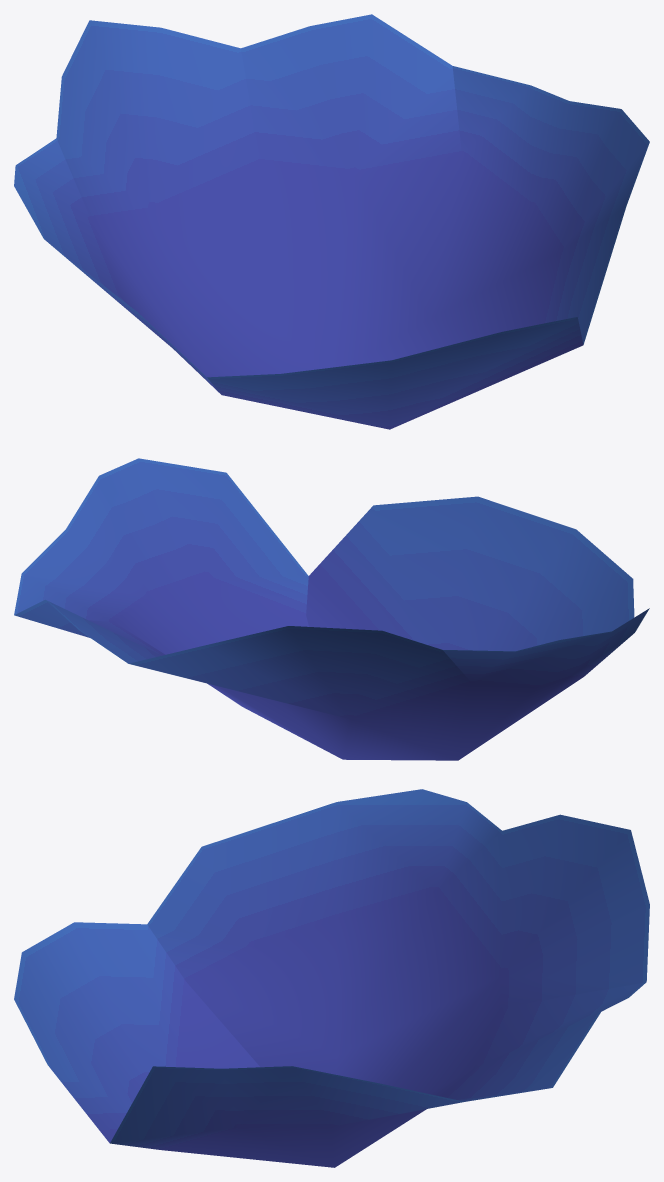
The model's file is CoralOA.fbx.
3 views of the same model, one above another, from view 1: azimuth 30°, elevation 25°; view 2: azimuth 150°, elevation 25°; view 3: azimuth 270°, elevation 25° (orthographic). The views are drawn at different scales.
Visible parts, largest first — view 1: CoralOA; view 2: CoralOA; view 3: CoralOA.
Part boxes in pixels (x1,y1,x2,y2): CoralOA: (14, 14, 649, 429); CoralOA: (14, 458, 649, 760); CoralOA: (14, 789, 649, 1167).
Bounding box in the file's own units: 50.16 × 23.29 × 49.1.
1 material, 1 textured.
